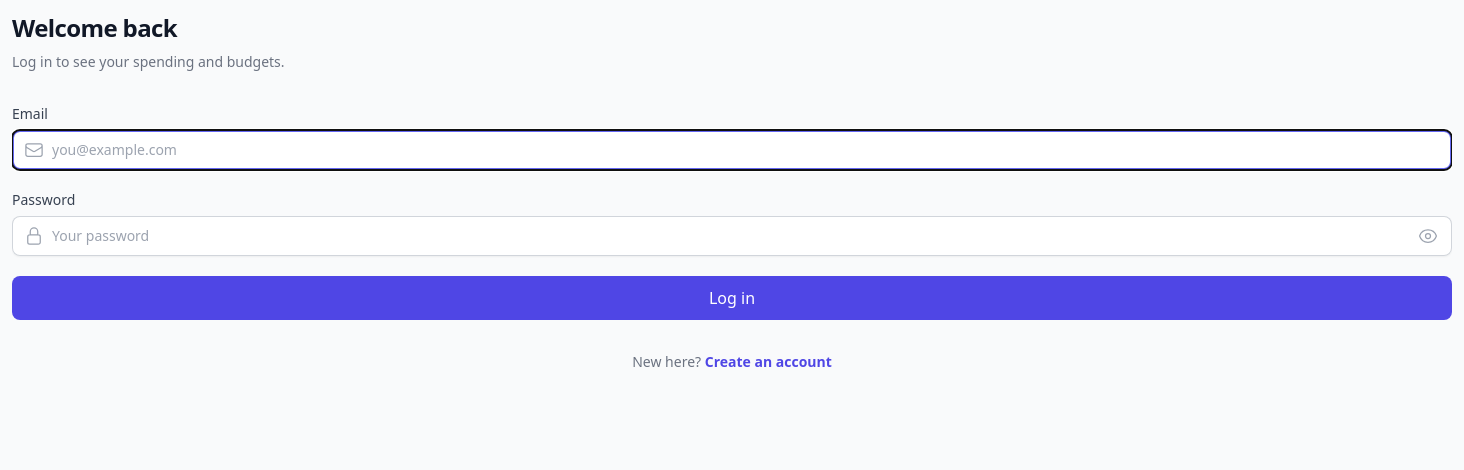
Test: network failure gets a clear message
The image size is (1464, 470).
Type "a@example.com" into the field labelled "Email" at (732, 150), box [12,130,1452,170]
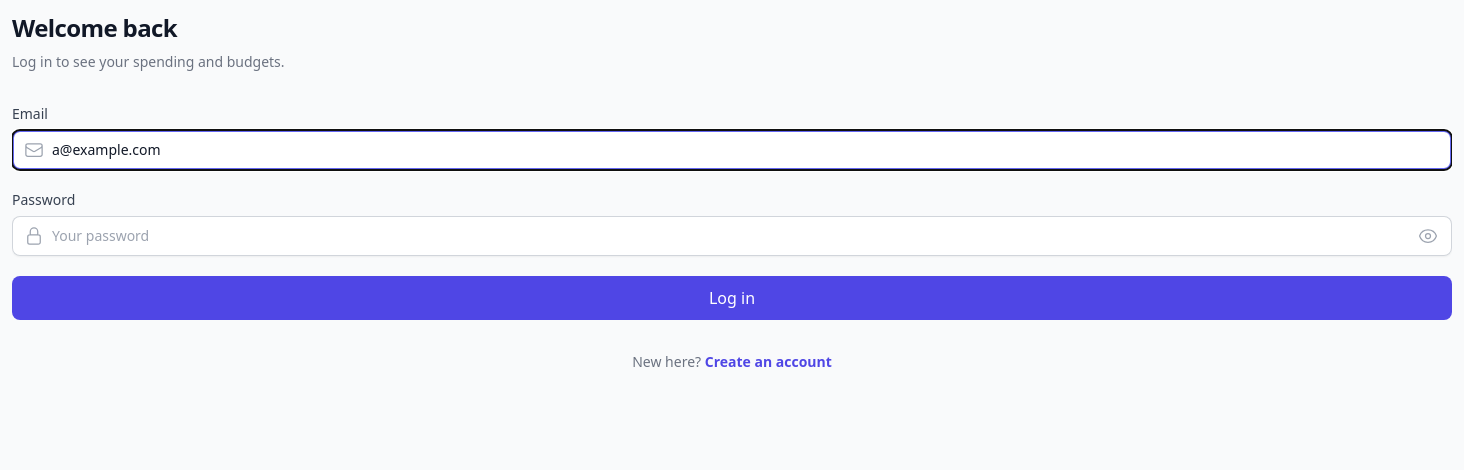
Type "secret123" into the password field labelled "Password" at (732, 236), box [12,216,1452,256]
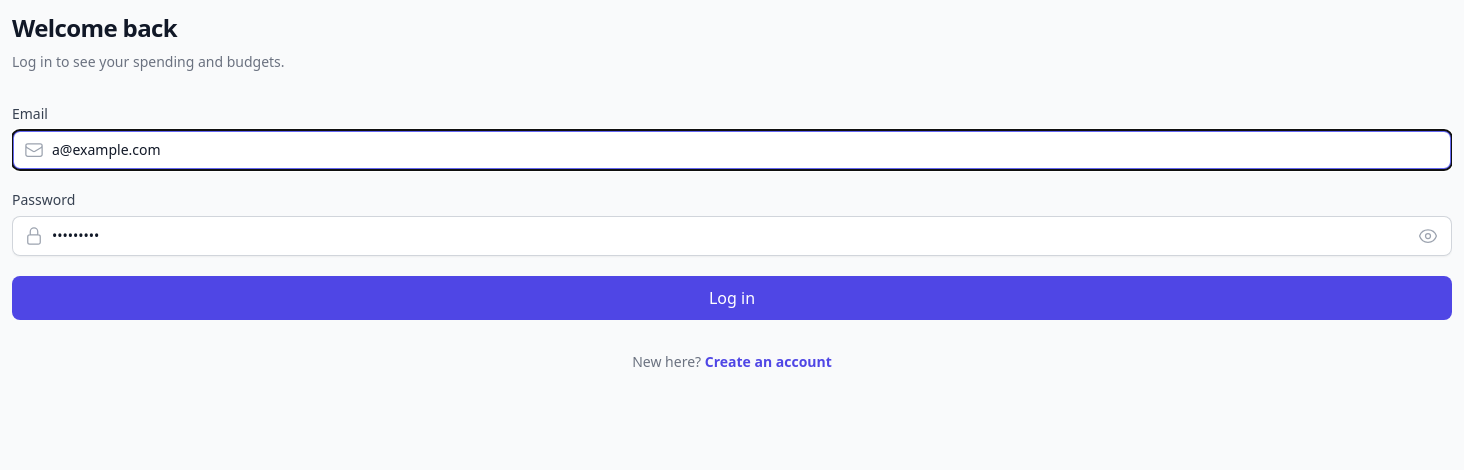
Click the button "Log in" at (732, 298), box [12,276,1452,320]
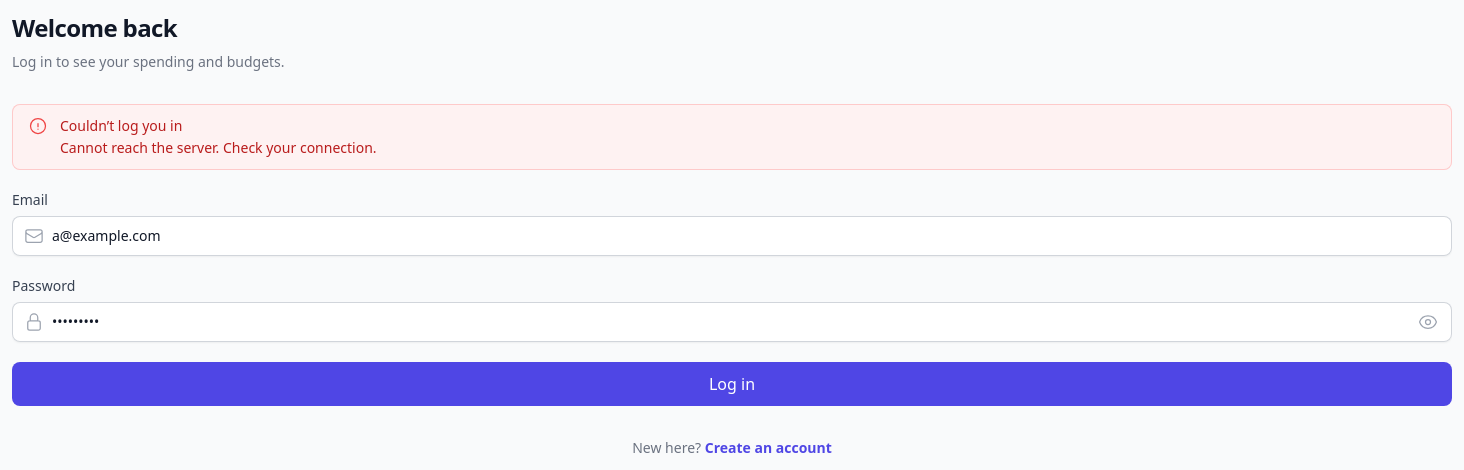
Check: the message shows "Cannot reach the server", box [60,138,377,157]
